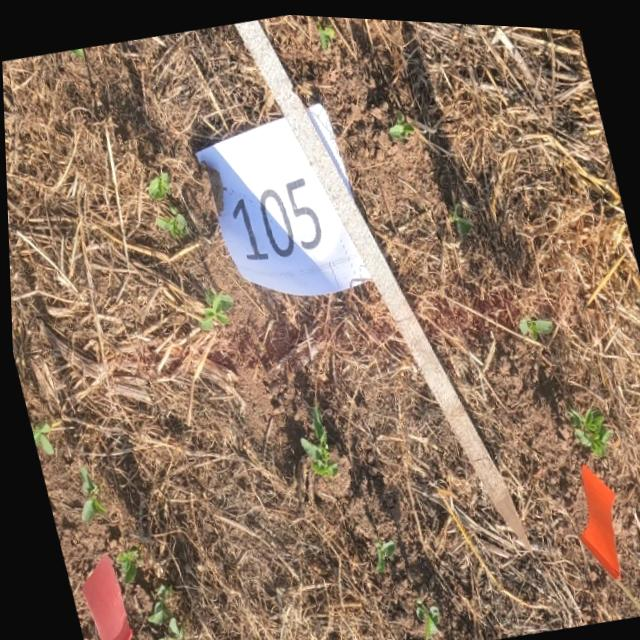soy_plant: (145, 170, 187, 238), (297, 403, 333, 472), (143, 582, 179, 640), (564, 402, 608, 449), (75, 466, 102, 521), (196, 286, 231, 328), (111, 545, 137, 582), (413, 593, 433, 635), (516, 312, 549, 333), (448, 198, 470, 229), (152, 615, 179, 640), (28, 424, 49, 454), (370, 536, 390, 567), (317, 19, 336, 45), (388, 116, 413, 134)
